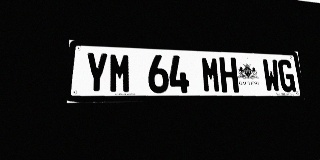4: (168, 55, 189, 93)
6: (148, 54, 169, 93)
G: (277, 59, 296, 92)
H: (219, 57, 239, 93)
M: (109, 53, 131, 93), (201, 56, 221, 93)
W: (262, 59, 281, 92)
Y: (84, 52, 108, 94)
